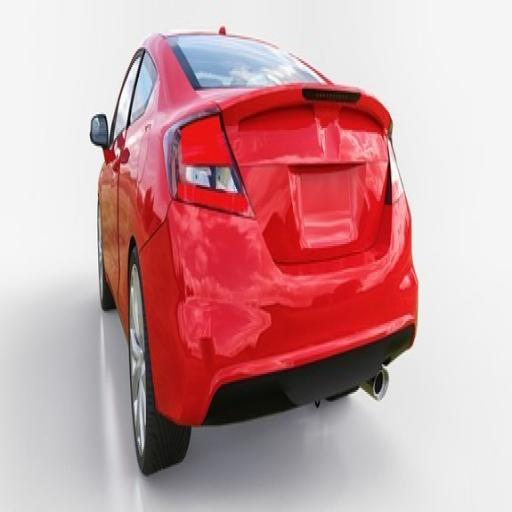coupe: (90, 35, 419, 475)
